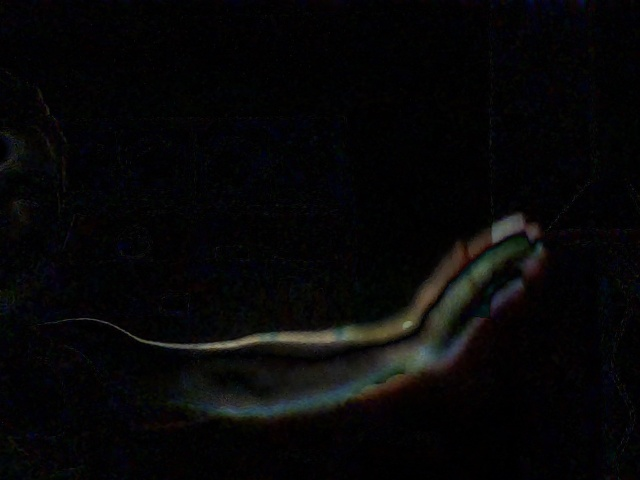hand_pa: (409, 199, 552, 362)
